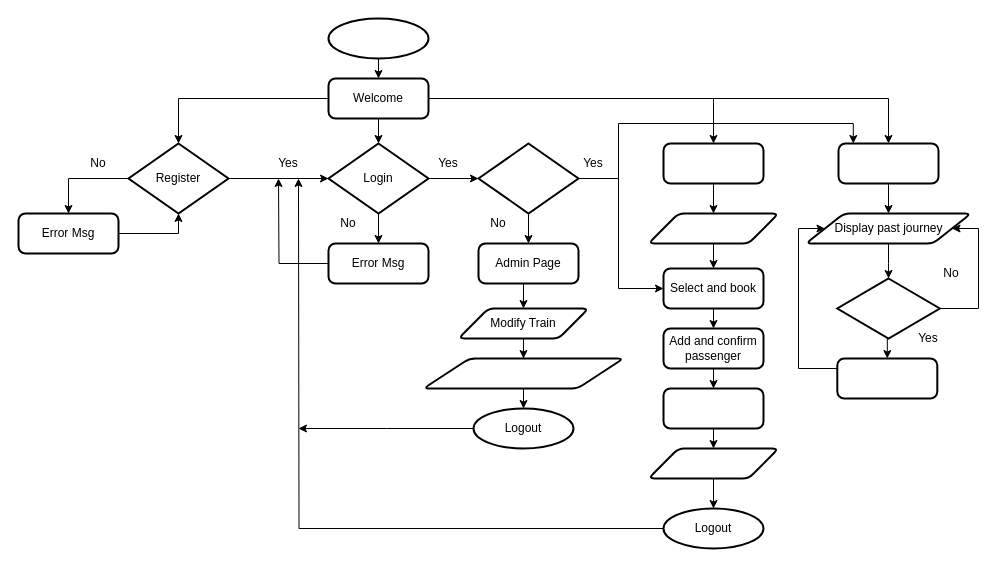
Some shapes in this 1004 by 566 pixel diagram are drawn without their labels. The box of each missing label's shape, as (x1, y1, x2, y2) in pixels:
Book Ticket: (662, 387, 764, 429)
Cancel: (836, 277, 940, 339)
Cancels the ticket: (836, 357, 938, 399)
Display Tickets: (647, 447, 779, 479)
Display Train Timetable: (422, 357, 624, 389)
Display Trains: (647, 212, 779, 244)
Find Trains: (662, 142, 764, 184)
History: (837, 142, 939, 184)
Start: (327, 17, 429, 59)
User: (477, 142, 579, 214)
